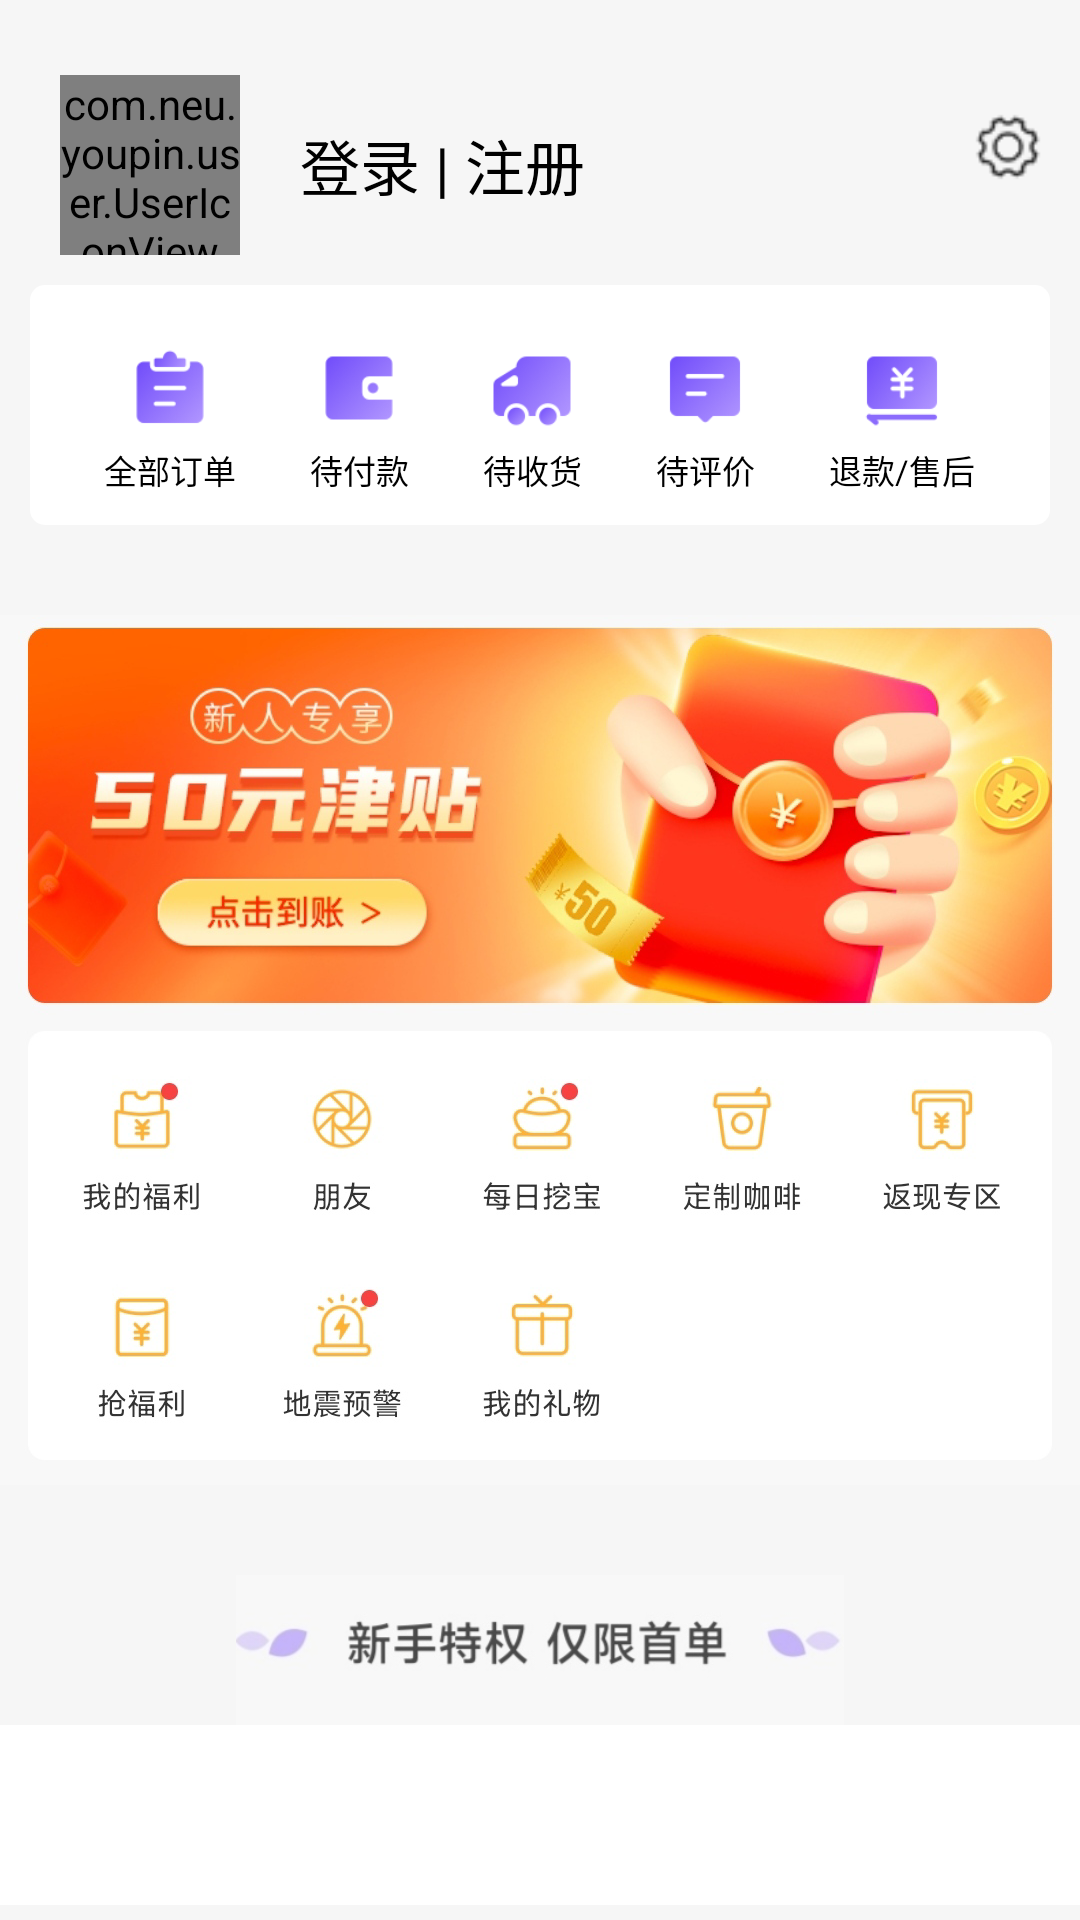

Locate icon controls on the screen. Image size 1080px x 1920px, boxes as bbox=(x1, y1, x2, y2).
user setting: bbox=(976, 116, 1039, 178)
